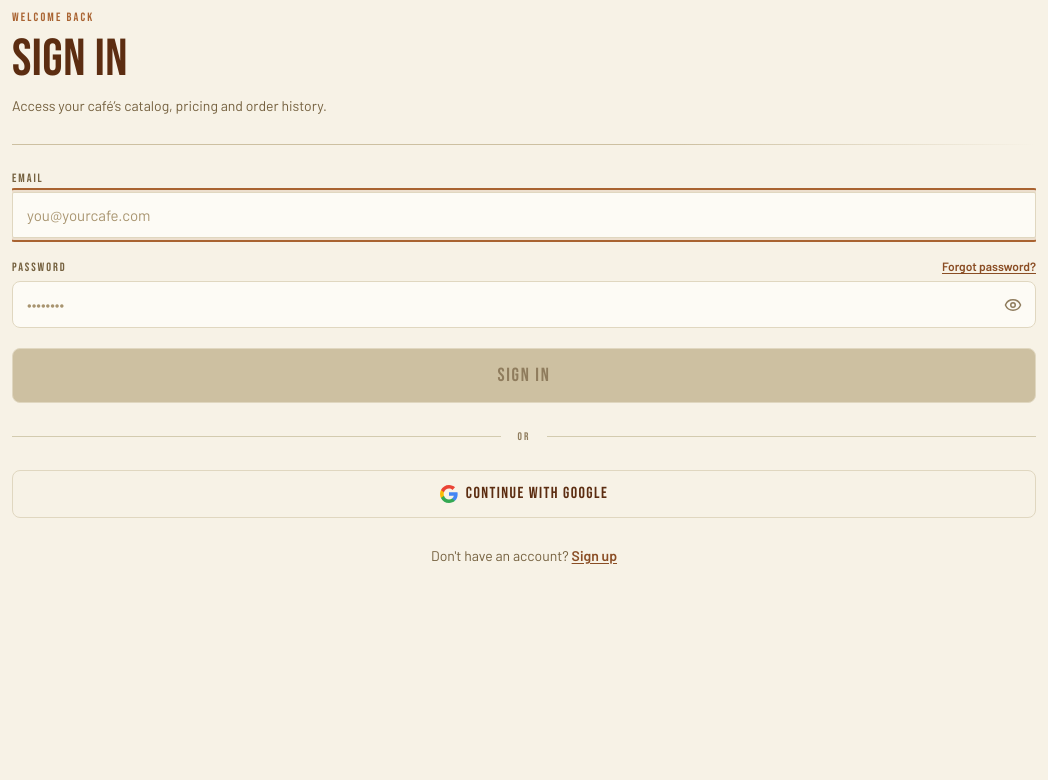
LoginForm — Google sign-in › shows an error message when Google sign-in fails to start
What coordinates should you click on to do the following:
click the button "Continue with Google"
I would click on:
 (524, 494)
Its box is [12, 470, 1036, 518].
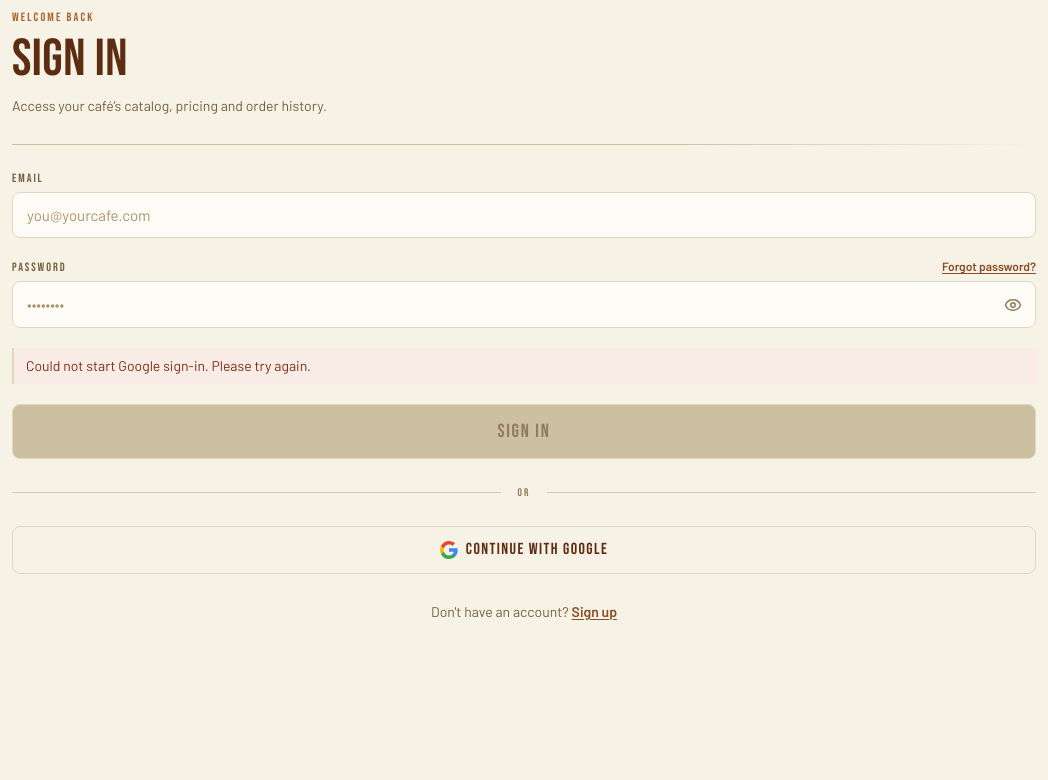
Expected: the text "Could not start Google sign-in. Please try again." is shown, [26, 357, 311, 374]
